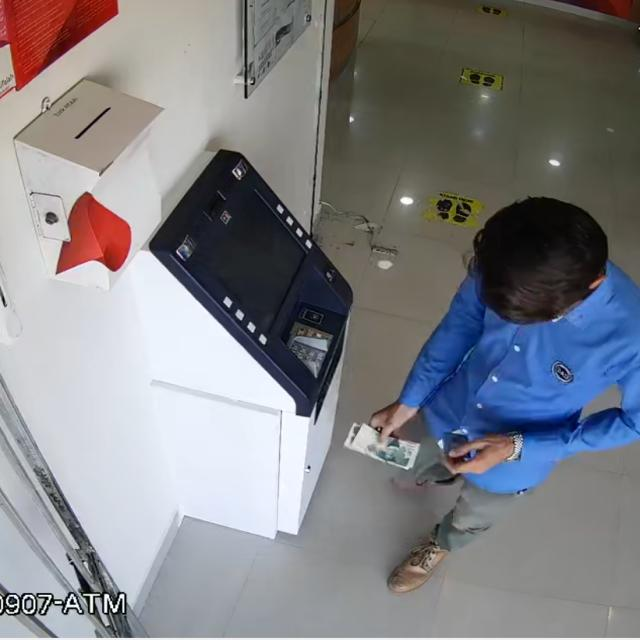note: (338, 415, 427, 478)
